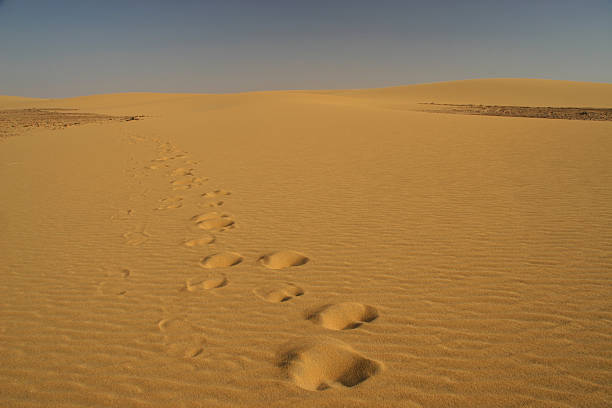animal_footprint: (276, 339, 381, 390), (304, 302, 378, 329), (158, 318, 206, 357), (253, 283, 303, 302), (258, 250, 308, 268), (97, 268, 130, 295), (183, 272, 227, 291), (200, 252, 242, 268), (194, 214, 234, 230), (123, 229, 149, 245), (183, 234, 214, 247), (155, 196, 182, 209), (171, 176, 206, 186), (202, 189, 230, 197), (171, 167, 192, 176), (201, 200, 223, 207)
